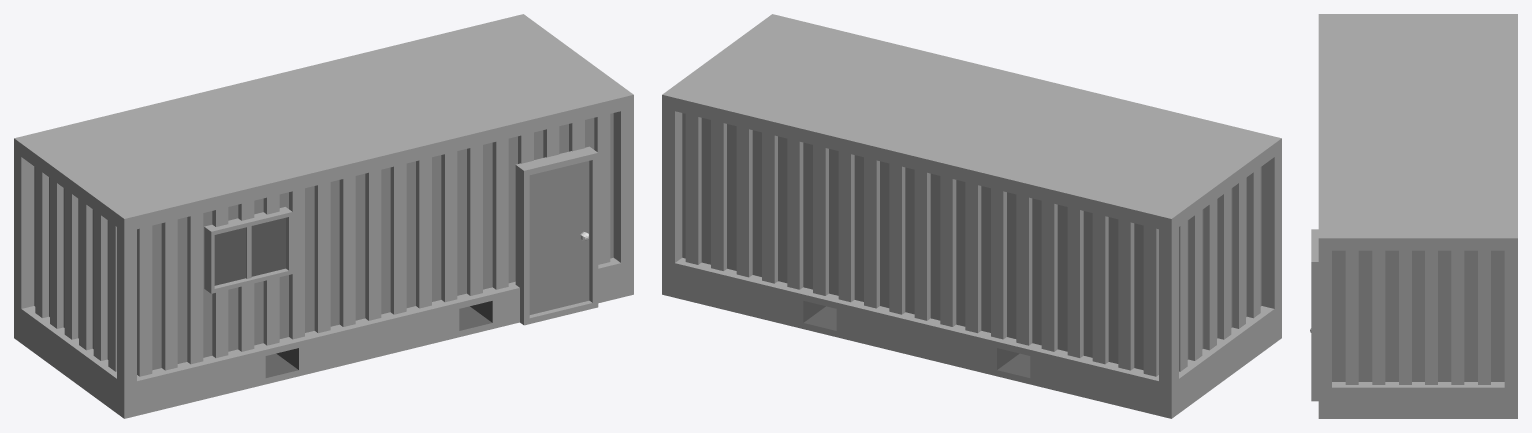
File: Container.fbx
3 views of the same model, side by side, from view 1: azimuth 30°, elevation 25°; view 2: azimuth 150°, elevation 25°; view 3: azimuth 270°, elevation 25° (orthographic). The views are drawn at different scales.
Parts seen in each view (by area): view 1: Cube; view 2: Cube; view 3: Cube.
Boxes of the visible parts, x1,y1,x2,y2 form: Cube: [14, 14, 633, 418]; Cube: [662, 14, 1281, 418]; Cube: [1310, 14, 1517, 418].
Size of the model in its own units: 800 by 300 by 313.
